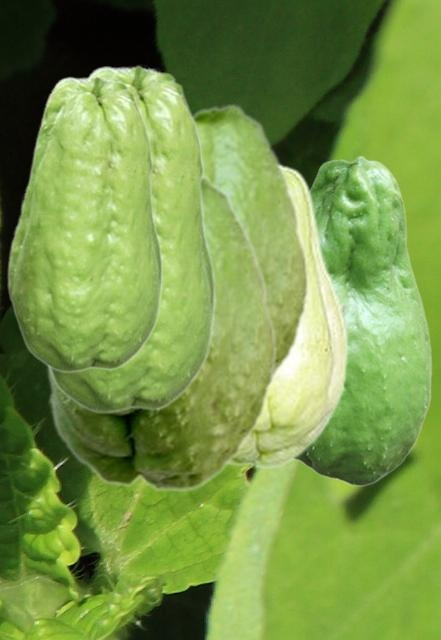sayote: (46, 174, 277, 492), (48, 64, 216, 414), (6, 75, 163, 373), (295, 155, 431, 485), (228, 163, 347, 468), (193, 102, 310, 384)
